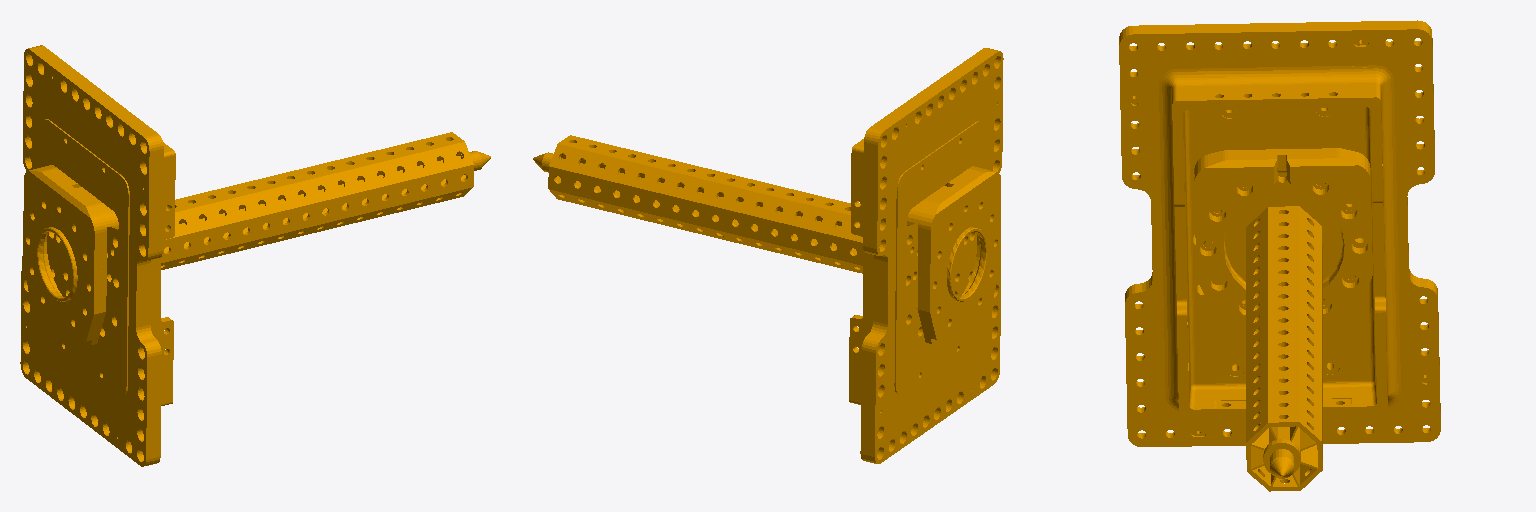
URDF robot description (robot):
<?xml version="1.0" encoding="UTF-8"?>
<robot name="">
  <link name="World">
    <visual>
      <origin xyz="0.6278846 -0.0014709 -0.0051023" rpy="1.5707964 0.795223 -1.5707964"/>
      <geometry>
        <mesh filename="./meshes/World_sticktool_sticktool__2_30D_355619_________0903_________K00_21_38D_600748_POS_103_BLZN_KLB__2_30D_355619_________0903_________K00_21_38D_600748_POS_103_BLZN_KLB.obj" scale="1. 1. 1."/>
      </geometry>
    </visual>
    <visual>
      <origin xyz="0.6167175 -1.4456149 0.2856815" rpy="-3.1415927 0. 0.7853982"/>
      <geometry>
        <mesh filename="./meshes/World_sticktool_sticktool__2_30D_355619_________0301_________K00_11_59D_323327_001_SWV__2_30D_355619_________0301_________K00_11_59D_323327_001_SWV.obj" scale="1. 1. 1."/>
      </geometry>
    </visual>
    <visual>
      <origin xyz="0.6734623 -1.4413774 0.2816375" rpy="-3.1415927 0. 0.7853982"/>
      <geometry>
        <mesh filename="./meshes/_2_30D_355619_________0301_________K00_11_59D_323327_001_SWV_01__2_30D_355619_________0301_________K00_11_59D_323327_001_SWV.obj" scale="1. 1. 1."/>
      </geometry>
    </visual>
    <visual>
      <origin xyz="0.0489358 -0.0038173 -0.0063185" rpy="1.5707964 1.5509135 1.5707964"/>
      <geometry>
        <mesh filename="./meshes/World_sticktool_sticktool__2_30D_355619_________0500_________K00_EGT016_1_H_RAH_300X450_SW80__2_30D_355619_________0500_________K00_EGT016_1_H_RAH_300X450_SW80.obj" scale="1. 1. 1."/>
      </geometry>
    </visual>
    <visual>
      <origin xyz="0.6196848 0.0008329 -0.0052451" rpy="-3.1415927 0.0198828 -1.5707964"/>
      <geometry>
        <mesh filename="./meshes/World_sticktool_sticktool__2_30D_355619_________0456_________K00_EGT001_8KT_PROFIL_SW80_538__2_30D_355619_________0456_________K00_EGT001_8KT_PROFIL_SW80_538.obj" scale="1. 1. 1."/>
      </geometry>
    </visual>
    <collision>
      <origin xyz="0.6278846 -0.0014709 -0.0051023" rpy="1.5707964 0.795223 -1.5707964"/>
      <geometry>
        <mesh filename="./meshes/World_sticktool_sticktool__2_30D_355619_________0903_________K00_21_38D_600748_POS_103_BLZN_KLB__2_30D_355619_________0903_________K00_21_38D_600748_POS_103_BLZN_KLB.obj" scale="1. 1. 1."/>
      </geometry>
    </collision>
    <collision>
      <origin xyz="0.6167175 -1.4456149 0.2856815" rpy="-3.1415927 0. 0.7853982"/>
      <geometry>
        <mesh filename="./meshes/World_sticktool_sticktool__2_30D_355619_________0301_________K00_11_59D_323327_001_SWV__2_30D_355619_________0301_________K00_11_59D_323327_001_SWV.obj" scale="1. 1. 1."/>
      </geometry>
    </collision>
    <collision>
      <origin xyz="0.6734623 -1.4413774 0.2816375" rpy="-3.1415927 0. 0.7853982"/>
      <geometry>
        <mesh filename="./meshes/_2_30D_355619_________0301_________K00_11_59D_323327_001_SWV_01__2_30D_355619_________0301_________K00_11_59D_323327_001_SWV.obj" scale="1. 1. 1."/>
      </geometry>
    </collision>
    <collision>
      <origin xyz="0.0489358 -0.0038173 -0.0063185" rpy="1.5707964 1.5509135 1.5707964"/>
      <geometry>
        <mesh filename="./meshes/World_sticktool_sticktool__2_30D_355619_________0500_________K00_EGT016_1_H_RAH_300X450_SW80__2_30D_355619_________0500_________K00_EGT016_1_H_RAH_300X450_SW80.obj" scale="1. 1. 1."/>
      </geometry>
    </collision>
    <collision>
      <origin xyz="0.6196848 0.0008329 -0.0052451" rpy="-3.1415927 0.0198828 -1.5707964"/>
      <geometry>
        <mesh filename="./meshes/World_sticktool_sticktool__2_30D_355619_________0456_________K00_EGT001_8KT_PROFIL_SW80_538__2_30D_355619_________0456_________K00_EGT001_8KT_PROFIL_SW80_538.obj" scale="1. 1. 1."/>
      </geometry>
    </collision>
  </link>
  <!-- Tool centre point: the electrode tip, in the docking-interface frame (the tool's origin).
       The Robo Dresser carries it into the dressed robot as a fixed `tcp` frame on the flange.
       Measured on the training cell welding_cell_2_small: [-0.9092, 0.0005, -0.0056] in link_6,
       with this tool mounted 0.2396745 m out along the flange axis and turned 180 deg about z. -->
  <link name="tcp"/>
  <joint name="tcp_joint" type="fixed">
    <origin xyz="0.6695255 -0.0005 -0.0056" rpy="0 0 0"/>
    <parent link="World"/>
    <child link="tcp"/>
  </joint>
</robot>

--- Facts derived from the render (not from the file) ---
The picture shows the robot from 3 angles, left to right: view 1: azimuth 30°, elevation 25°; view 2: azimuth 150°, elevation 25°; view 3: azimuth 270°, elevation 25°; orthographic projection.
Model robot with 2 links and 1 joints (1 fixed), rooted at World, posed all joints at 0.
Links seen in each view (by area): view 1: World; view 2: World; view 3: World.
Boxes of the visible links, <box> form: World: <box>20,45,490,466</box>; World: <box>533,48,1003,463</box>; World: <box>1119,20,1440,491</box>.
Size in the robot's own frame: 0.6629 by 0.3389 by 0.4859 metres.
Meshes: 5 distinct files referenced, 5 mesh visuals loaded (5 OBJ).
